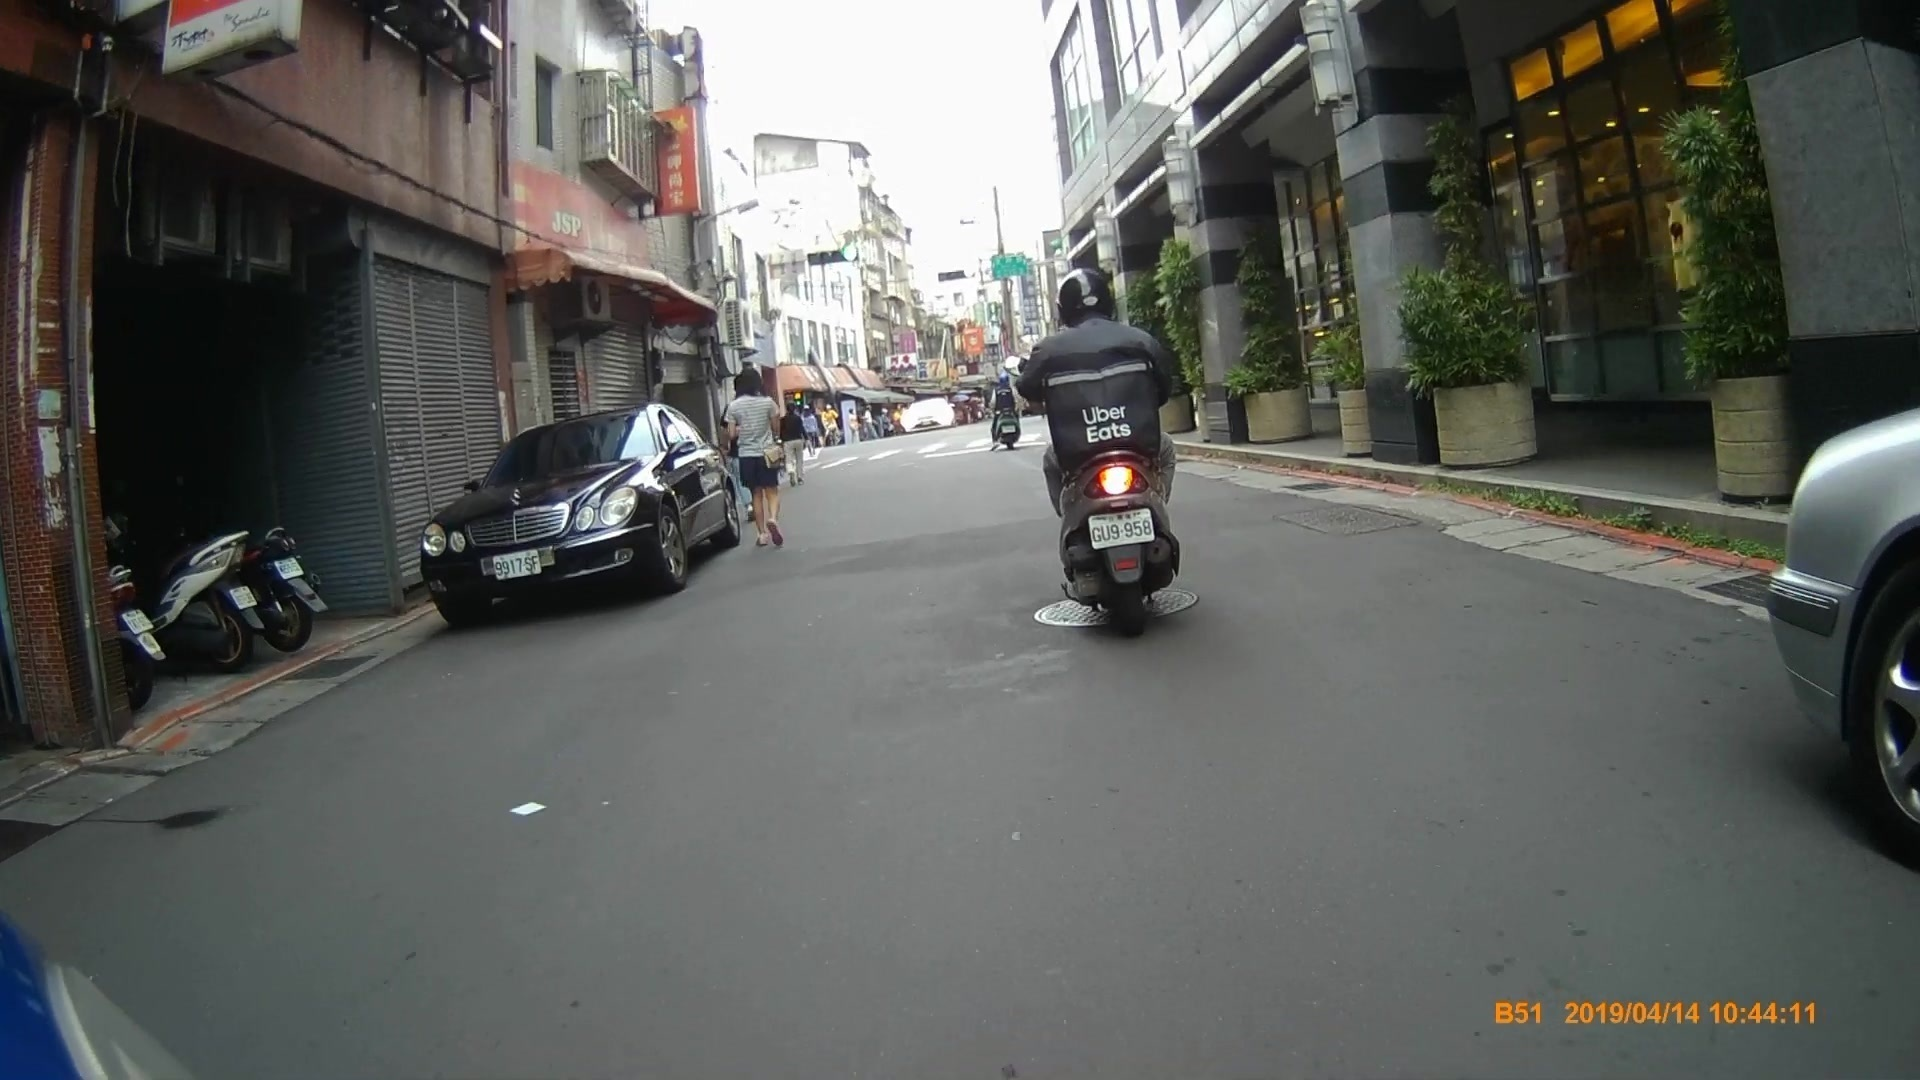License_plate: (1084, 509, 1155, 546), (487, 548, 547, 577)
